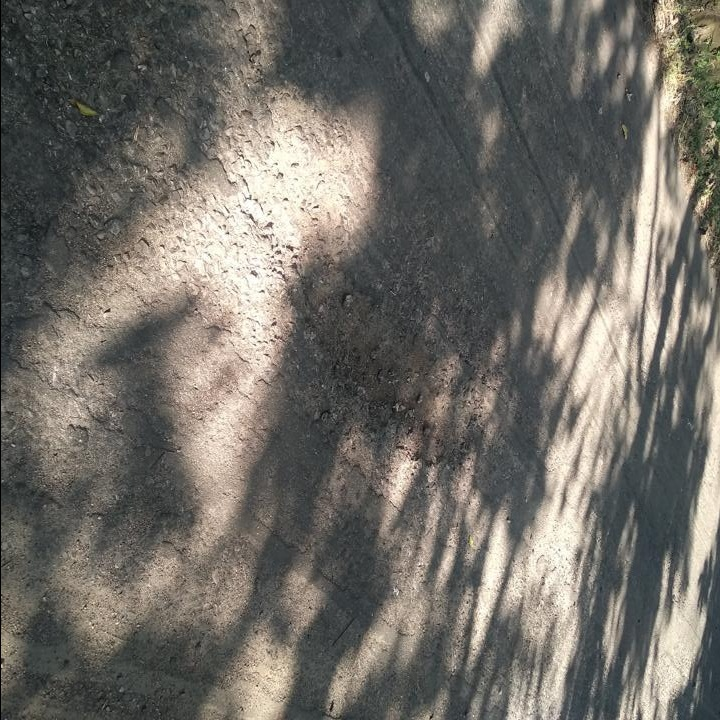pothole: (280, 242, 483, 471)
